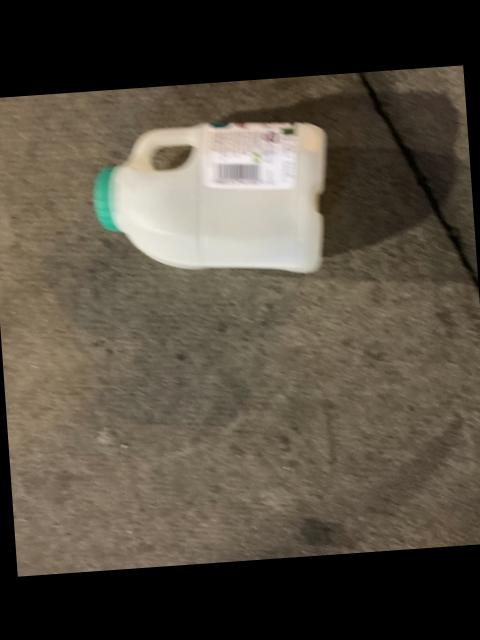plastic: (92, 120, 324, 270)
